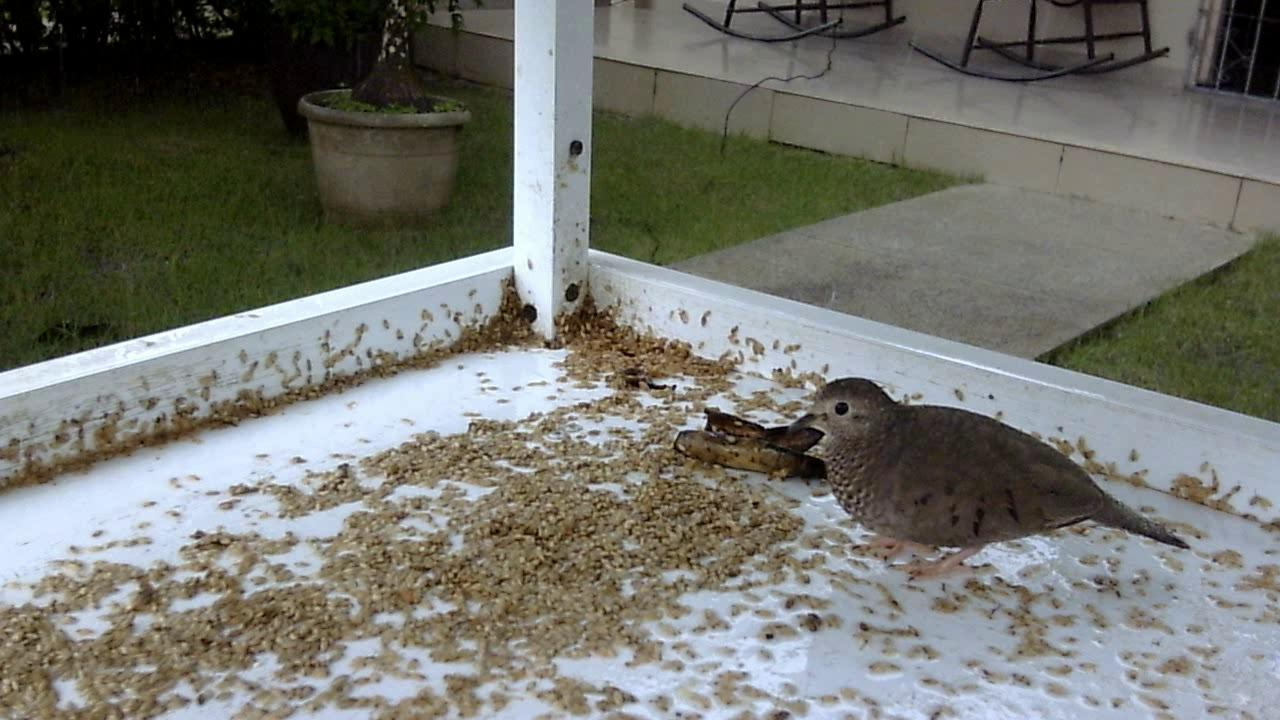rolinha: (775, 373, 1199, 592)
